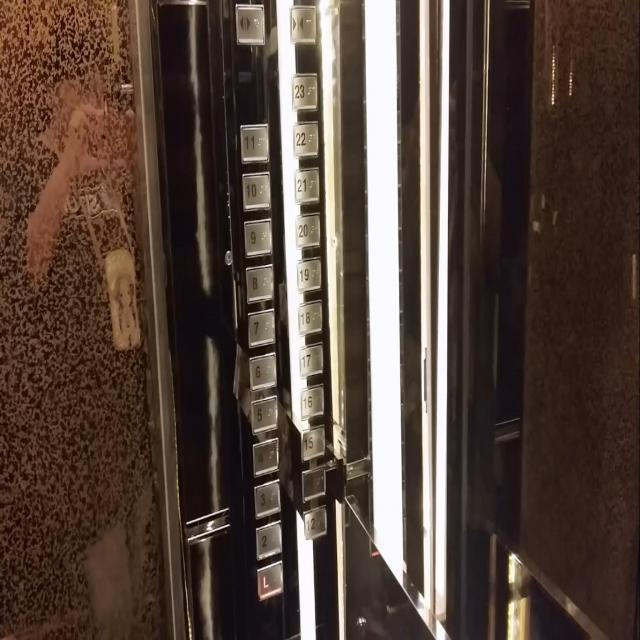10: (241, 170, 271, 212)
11: (239, 121, 269, 162)
12: (302, 503, 327, 539)
15: (300, 422, 325, 462)
16: (300, 381, 324, 420)
17: (298, 340, 324, 379)
18: (296, 298, 322, 336)
19: (296, 254, 322, 294)
2: (255, 518, 282, 560)
20: (294, 211, 320, 250)
21: (294, 166, 320, 202)
22: (292, 119, 318, 158)
23: (291, 72, 318, 111)
3: (253, 477, 281, 518)
4: (252, 436, 280, 478)
5: (250, 394, 278, 436)
6: (248, 351, 277, 391)
7: (247, 307, 276, 348)
8: (245, 262, 274, 303)
9: (243, 217, 272, 258)
L: (256, 559, 284, 602)
blur: (301, 464, 326, 504)
close: (289, 4, 316, 45)
open: (234, 2, 266, 46)
